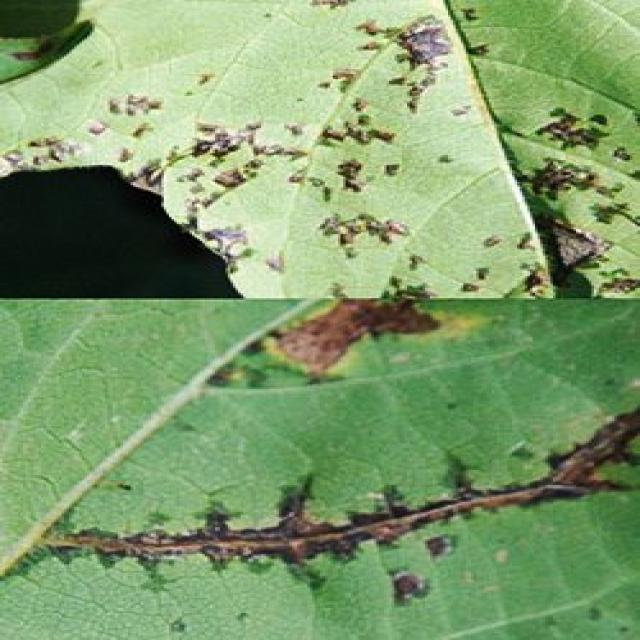Bacterial Blight: (76, 47, 610, 290), (0, 454, 640, 620)
